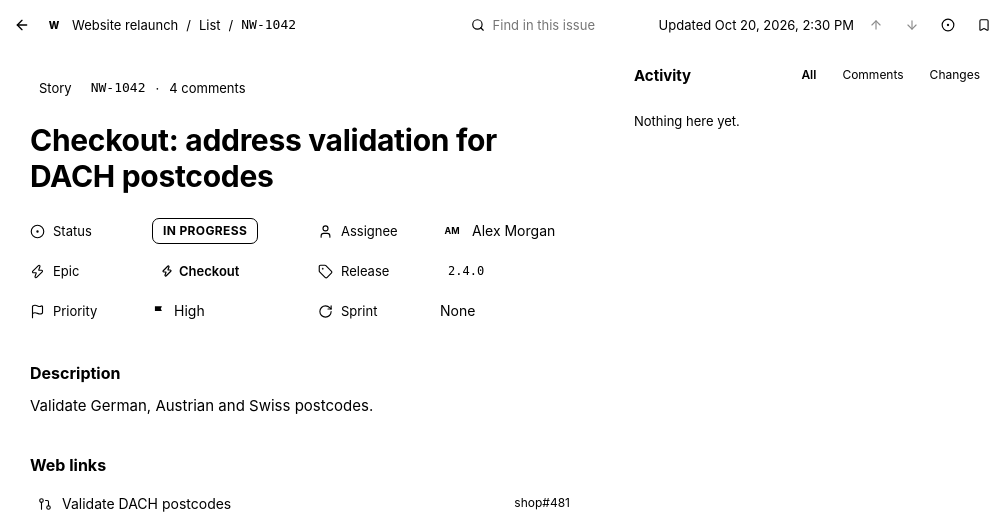
Test: IssueView › unread changes › marking unread while the issue is open › keeps the issue unread instead of marking it read after the delay
The image size is (1006, 529).
Step 1. Click the button named "Mark as unread" → (948, 25), box [934,11,962,39]
Wait 5000 ms
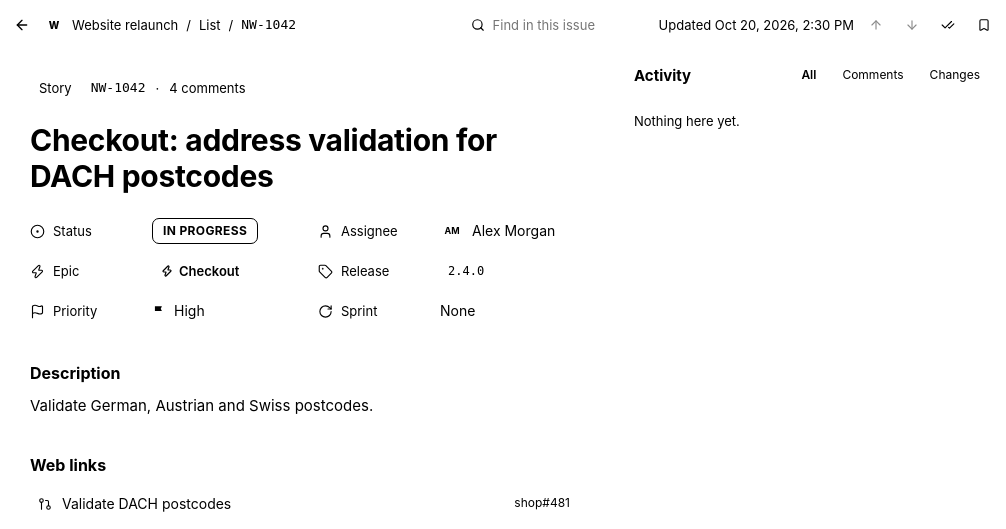
Now the button named "Mark as read" is shown, box [934,11,962,39]
